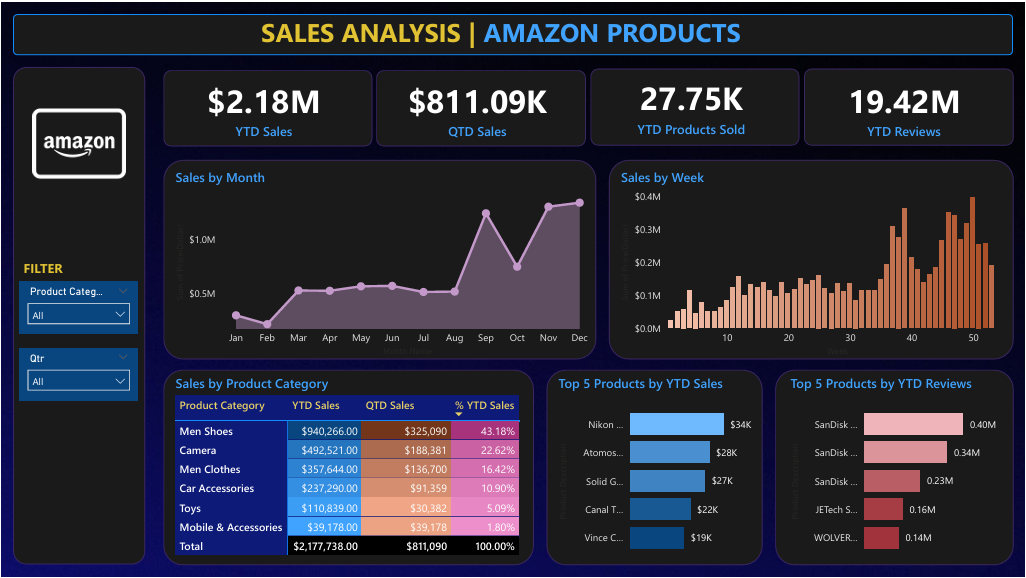

The dashboard page shown, as its layout file describes it:
{"tool":"powerbi","page":{"name":"Page 1","canvas":[1280,720],"ordinal":0},"visuals":[{"type":"shape","box":[15.1,15.1,1250,50.4],"z":0},{"type":"shape","box":[202.7,84.6,261.3,95.3],"z":1000},{"type":"textbox","box":[320.3,9.9,616.5,59.5],"z":2000},{"type":"shape","box":[469.5,84.7,261.8,95.3],"z":3000},{"type":"shape","box":[15.1,80.6,164.6,621.5],"z":4000},{"type":"card","fields":{"Values":["Amazon_Data.YTD Sales"]},"box":[202.7,85,250.9,95],"z":5000},{"type":"card","fields":{"Values":["Amazon_Data.QTD Sales"]},"box":[470.6,85,249.4,95],"z":6000},{"type":"shape","box":[736.7,83.3,261.8,95.3],"z":7000},{"type":"shape","box":[202.7,197,541.4,249.4],"z":8000},{"type":"shape","box":[1003.9,83.3,261.8,95.3],"z":9000},{"type":"card","fields":{"Values":["Amazon_Data.YTD Products Sold"]},"box":[738.4,82.2,249.4,95],"z":10000},{"type":"card","fields":{"Values":["Amazon_Data.YTD Reviews"]},"box":[1004.9,85,248,95],"z":11000},{"type":"areaChart","title":"Sales by Month","fields":{"Category":["Date Table.Month Name"],"Y":["Sum(Amazon_Data.Price(Dollar))"]},"box":[212.6,208.3,531.5,238.1],"z":12000},{"type":"shape","box":[759.7,197,506,249.4],"z":13000},{"type":"columnChart","title":"Sales by Week","fields":{"Category":["Date Table.Week"],"Y":["Sum(Amazon_Data.Price(Dollar))"]},"box":[769.6,208.3,496.1,238.1],"z":14000},{"type":"shape","box":[202.7,459.2,463.5,243.8],"z":15000},{"type":"pivotTable","title":"Sales by Product Category","fields":{"Rows":["Amazon_Data.Product Category"],"Values":["Amazon_Data.YTD Sales1","Amazon_Data.QTD Sales","Amazon_Data.YTD Sales"]},"box":[212.6,464.9,443.6,231],"z":16000},{"type":"shape","box":[681.7,459.2,270.7,243.8],"z":17000},{"type":"shape","box":[968,459.2,297.6,243.8],"z":18000},{"type":"clusteredBarChart","title":"Top 5 Products by YTD Sales","fields":{"Category":["Amazon_Data.Product Description"],"Y":["Amazon_Data.YTD Sales"]},"box":[691.7,464.9,260.8,238.1],"z":19000},{"type":"clusteredBarChart","title":"Top 5 Products by YTD Reviews","fields":{"Category":["Amazon_Data.Product Description"],"Y":["Amazon_Data.YTD Reviews"]},"box":[982.2,464.9,270.7,238.1],"z":20000},{"type":"slicer","fields":{"Values":["Amazon_Data.Product Category"]},"box":[22.7,348.7,148.8,65.2],"z":21000},{"type":"slicer","fields":{"Values":["Date Table.Qtr"]},"box":[22.7,432.3,148.8,65.2],"z":22000},{"type":"image","box":[15.6,117.6,163,117.6],"z":23000},{"type":"textbox","box":[22.7,316.1,62.4,32.6],"z":24000}]}

Visuals, with their boxes in screenshot pixels (x1, y1, x2, y2), scaled from the page's 1280x720 canvas onto the 1026x578 screenshot:
shape: region(12, 12, 1014, 53)
shape: region(162, 68, 372, 144)
textbox: region(257, 8, 751, 56)
shape: region(376, 68, 586, 144)
shape: region(12, 65, 144, 564)
card - Amazon_Data.YTD Sales: region(162, 68, 364, 144)
card - Amazon_Data.QTD Sales: region(377, 68, 577, 144)
shape: region(591, 67, 800, 143)
shape: region(162, 158, 596, 358)
shape: region(805, 67, 1015, 143)
card - Amazon_Data.YTD Products Sold: region(592, 66, 792, 142)
card - Amazon_Data.YTD Reviews: region(805, 68, 1004, 144)
"Sales by Month" areaChart: region(170, 167, 596, 358)
shape: region(609, 158, 1015, 358)
"Sales by Week" columnChart: region(617, 167, 1015, 358)
shape: region(162, 369, 534, 564)
"Sales by Product Category" pivotTable: region(170, 373, 526, 559)
shape: region(546, 369, 763, 564)
shape: region(776, 369, 1014, 564)
"Top 5 Products by YTD Sales" clusteredBarChart: region(554, 373, 763, 564)
"Top 5 Products by YTD Reviews" clusteredBarChart: region(787, 373, 1004, 564)
slicer - Amazon_Data.Product Category: region(18, 280, 137, 332)
slicer - Date Table.Qtr: region(18, 347, 137, 399)
image: region(13, 94, 143, 189)
textbox: region(18, 254, 68, 280)
